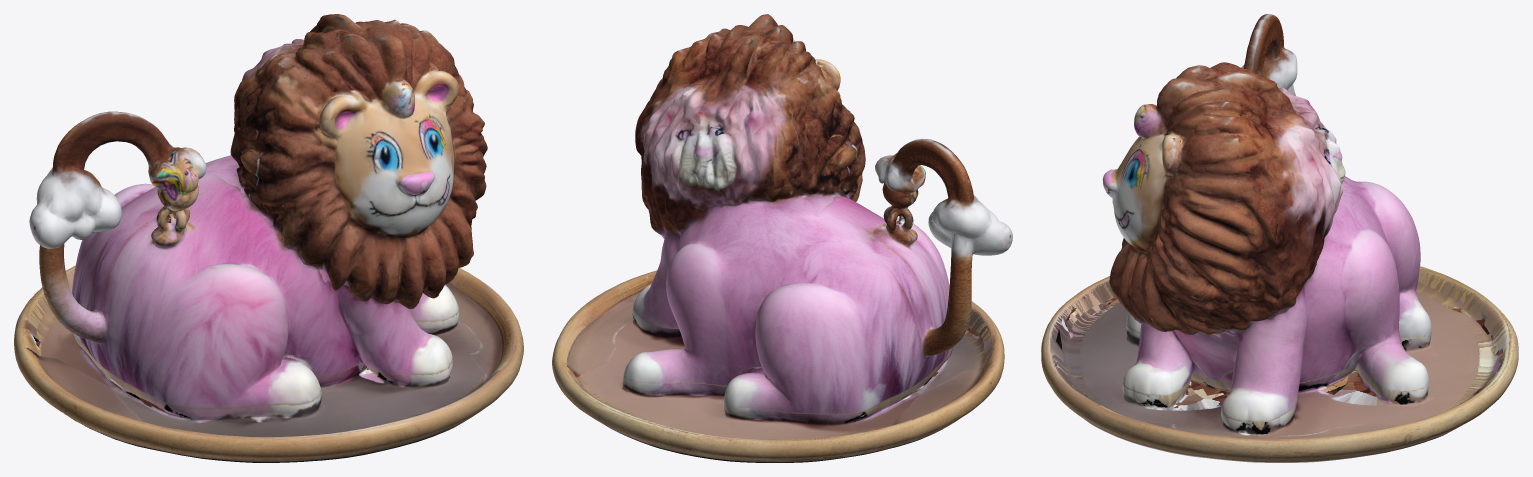
File: syncmvd.glb
3 renders of one model, left to right at view 1: azimuth 30°, elevation 25°; view 2: azimuth 150°, elevation 25°; view 3: azimuth 270°, elevation 25°, orthographic. The views are drawn at different scales.
Parts seen in each view (by area): view 1: textured; view 2: textured; view 3: textured.
Boxes of the visible parts, x1,y1,x2,y2 form: textured: (14,14,523,462); textured: (552,14,1012,462); textured: (1041,14,1518,462).
Size of the model in its own units: 2 by 1.43 by 1.9.
1 material, 1 textured.
